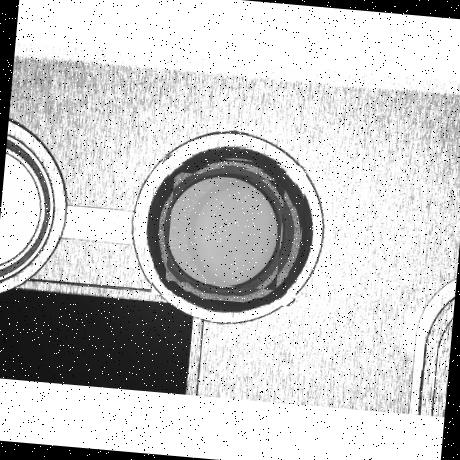Hole: (139, 140, 319, 320)
Hole2: (152, 153, 306, 307)
Hole3: (159, 162, 298, 300)
Hole4: (166, 171, 286, 290)
